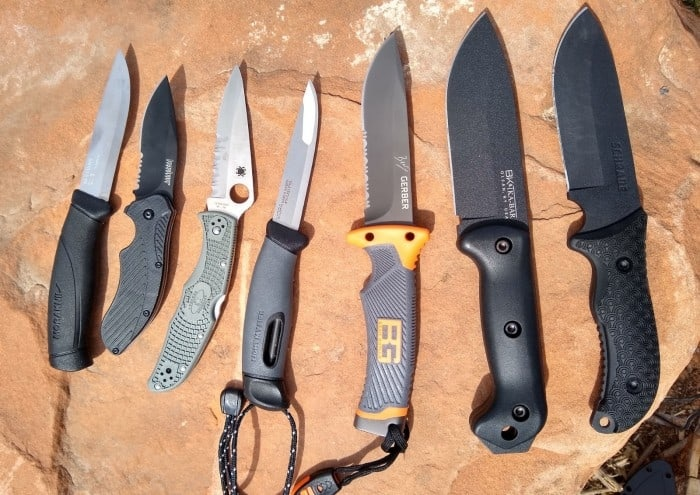knife: (550, 3, 664, 436), (443, 5, 550, 457), (143, 58, 258, 393), (344, 29, 432, 443), (45, 43, 132, 376), (239, 76, 321, 408), (98, 72, 183, 355)
